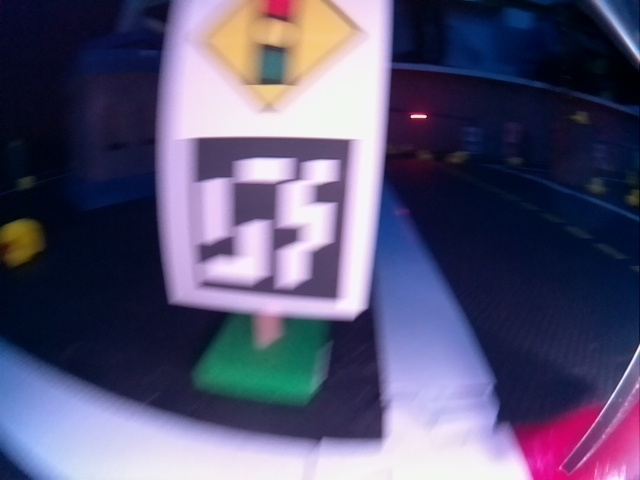Duckie: (2, 219, 44, 263)
QR code: (176, 132, 360, 306)
Signal sign: (187, 2, 369, 121)
